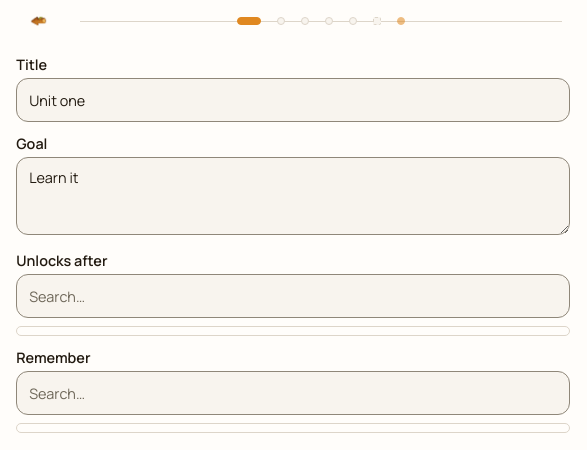
UnitScreen in edit mode › renders a concept as one card, with no table left on the page
Click the button named "Page 4 of 6" at (329, 21), box [325,17,333,25]
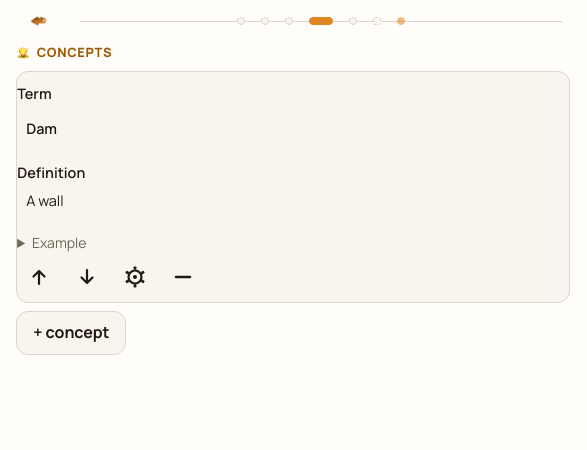
Expected: the number of list items with class "unit-row-card" is 1, [16,71,570,303]
